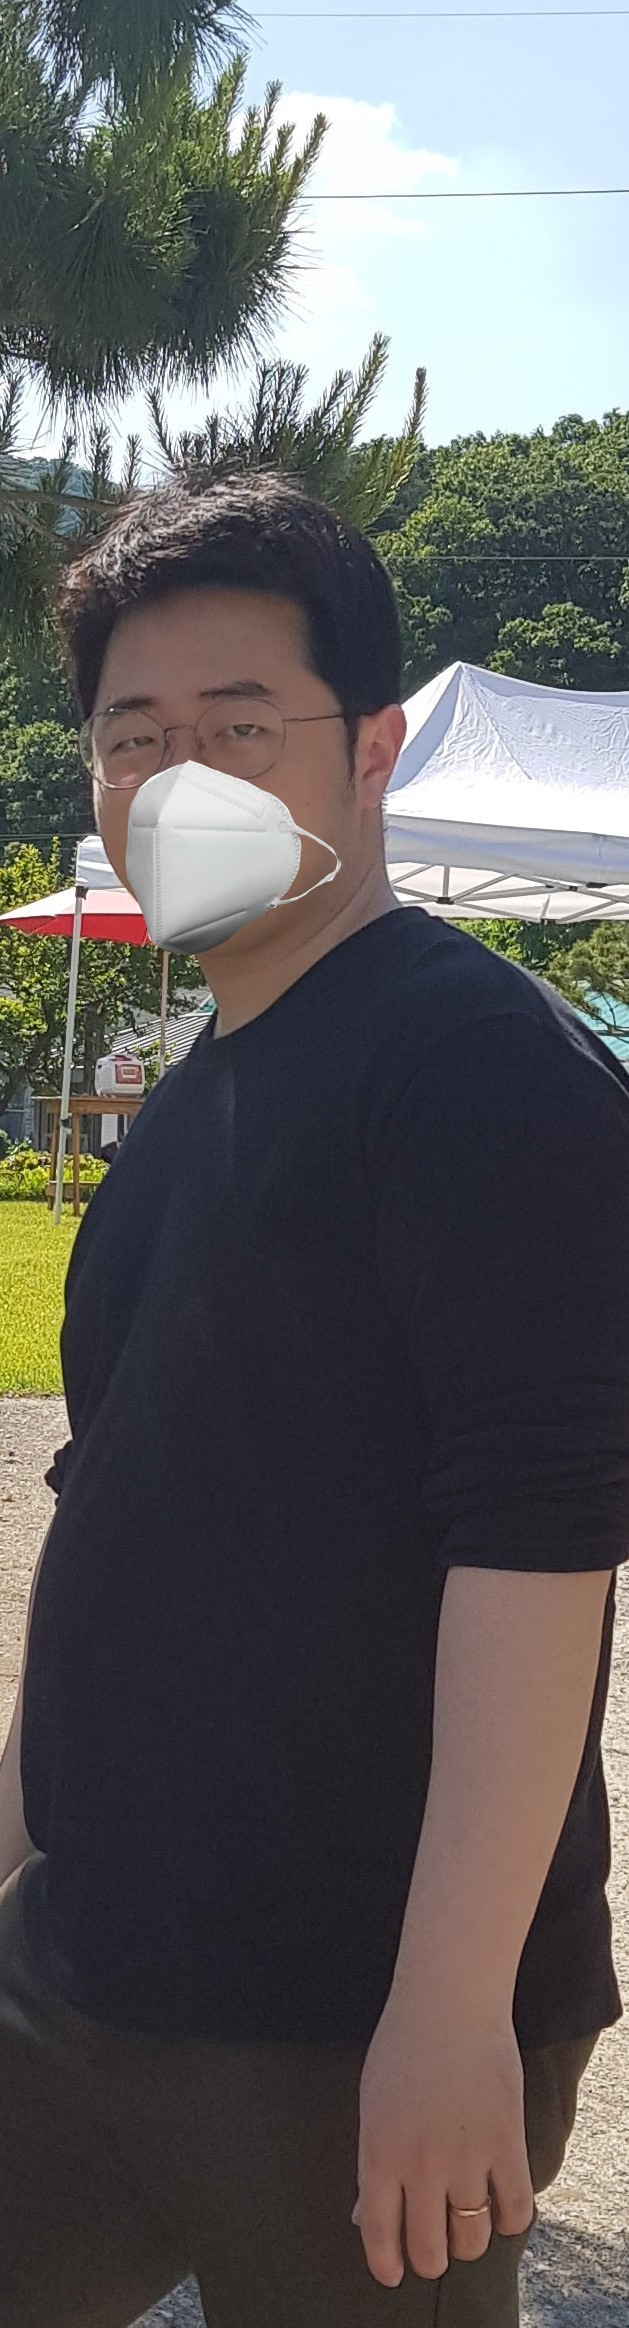mask: (95, 604, 359, 926)
